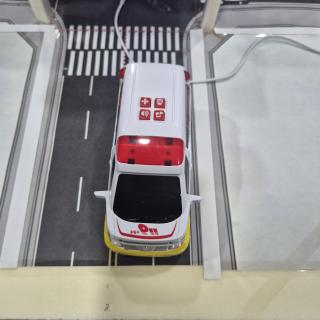Ambulance: (94, 63, 202, 256)
